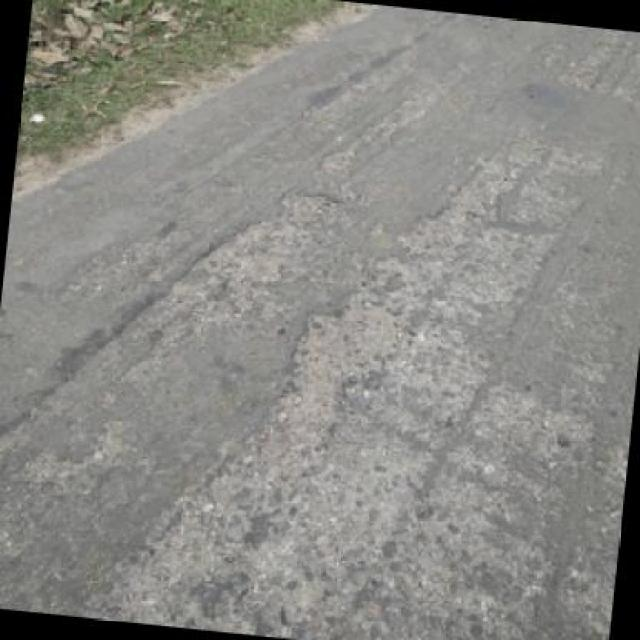pothole1: (173, 172, 349, 320), (272, 282, 412, 440)
